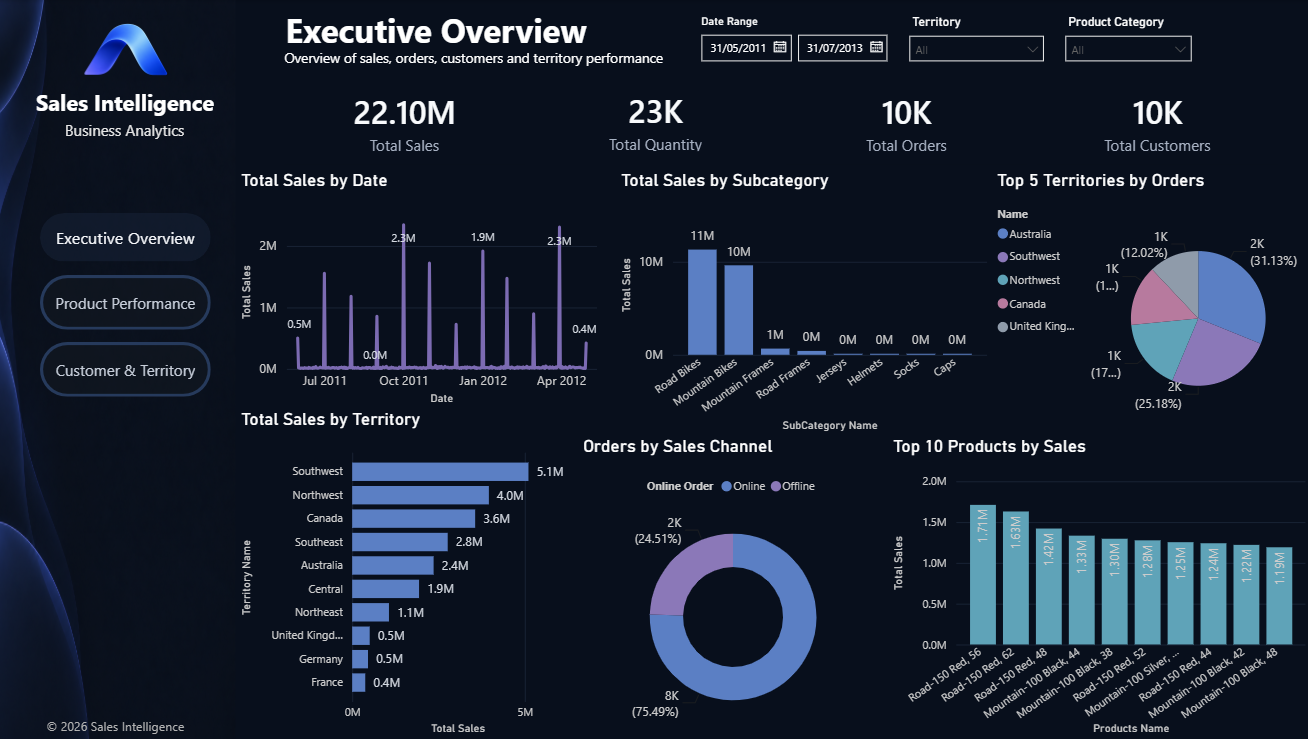

The page's visual inventory and layout, read from the dashboard file:
{"tool":"powerbi","page":{"name":"Executive Overview","canvas":[1280,720],"ordinal":0},"visuals":[{"type":"cardVisual","fields":{"Data":["SalesOrderDetails.Total Sales"]},"box":[276.2,72.9,244.1,92.4],"z":0},{"type":"cardVisual","fields":{"Data":["SalesOrders.Total Orders"]},"box":[764.5,72.9,244.1,92.4],"z":1000},{"type":"cardVisual","fields":{"Data":["SalesOrderDetails.Total Quantity"]},"box":[520.3,73.2,244.3,92],"z":2000},{"type":"cardVisual","fields":{"Data":["Customer.Total Customers"]},"box":[1008.6,72.9,244.1,92.4],"z":3000},{"type":"shape","box":[0,0,234.4,719.8],"z":4000},{"type":"textbox","box":[247.3,2,364,71.2],"z":5000},{"type":"columnChart","title":"Total Sales by Subcategory","fields":{"Category":["ProductSubCategory.Name"],"Y":["SalesOrderDetails.Total Sales"]},"box":[604,165.3,365.7,258.7],"z":6000},{"type":"lineChart","fields":{"Category":["DateTable.Date"],"Y":["SalesOrderDetails.Total Sales"]},"box":[234.4,165.3,369.6,232.5],"z":7000},{"type":"barChart","title":"Total Sales by Territory","fields":{"Category":["Territory.Name"],"Y":["SalesOrderDetails.Total Sales"]},"box":[234.4,397.7,332.4,321.5],"z":8000},{"type":"donutChart","title":"Orders by Sales Channel","fields":{"Category":["SalesOrders.Online Order"],"Y":["SalesOrders.Total Orders"]},"box":[566.8,424.4,301.7,294.8],"z":9000},{"type":"clusteredColumnChart","title":"Top 10 Products by Sales","fields":{"Category":["Product.Name"],"Y":["SalesOrderDetails.Total Sales"]},"box":[868.5,424.4,411.5,294.8],"z":10000},{"type":"pieChart","title":"Top 5 Territories by Orders","fields":{"Category":["Territory.Name"],"Y":["SalesOrders.Total Orders"]},"box":[969.7,165.3,310.3,258.7],"z":11000},{"type":"image","box":[0,0,234.4,719.1],"z":12000},{"type":"actionButton","box":[43.5,206.7,166.2,47.5],"z":13000},{"type":"actionButton","box":[43.5,267.1,166.2,53.4],"z":14000},{"type":"actionButton","box":[43.5,332.4,166.2,53.4],"z":15000},{"type":"image","box":[69.2,17.8,114.7,62.3],"z":16000},{"type":"textbox","box":[31.7,80.1,188.9,39.6],"z":17000},{"type":"textbox","box":[52.4,110.8,147.4,32.6],"z":18000},{"type":"slicer","fields":{"Values":["DateTable.Date"]},"box":[673.6,9.9,205.7,59.4],"z":19000},{"type":"slicer","fields":{"Values":["Territory.Name"]},"box":[879.4,9.9,151.3,64.3],"z":20000},{"type":"slicer","fields":{"Values":["ProductCategory.Name"]},"box":[1030.7,9.9,143.4,64.3],"z":21000},{"type":"textbox","box":[35.6,691.4,162.2,27.7],"z":22000},{"type":"textbox","box":[276.2,41.8,388.1,34],"z":22001}]}

Visuals, with their boxes in screenshot pixels (x1, y1, x2, y2), scaled from the page's 1280x720 canvas onto the 1308x739 screenshot:
cardVisual - SalesOrderDetails.Total Sales: region(282, 75, 532, 170)
cardVisual - SalesOrders.Total Orders: region(781, 75, 1031, 170)
cardVisual - SalesOrderDetails.Total Quantity: region(532, 75, 781, 170)
cardVisual - Customer.Total Customers: region(1031, 75, 1280, 170)
shape: region(0, 0, 240, 738)
textbox: region(253, 2, 625, 75)
"Total Sales by Subcategory" columnChart: region(617, 170, 991, 435)
lineChart - DateTable.Date x SalesOrderDetails.Total Sales: region(240, 170, 617, 408)
"Total Sales by Territory" barChart: region(240, 408, 579, 738)
"Orders by Sales Channel" donutChart: region(579, 436, 887, 738)
"Top 10 Products by Sales" clusteredColumnChart: region(887, 436, 1307, 738)
"Top 5 Territories by Orders" pieChart: region(991, 170, 1307, 435)
image: region(0, 0, 240, 738)
actionButton: region(44, 212, 214, 261)
actionButton: region(44, 274, 214, 329)
actionButton: region(44, 341, 214, 396)
image: region(71, 18, 188, 82)
textbox: region(32, 82, 225, 123)
textbox: region(54, 114, 204, 147)
slicer - DateTable.Date: region(688, 10, 899, 71)
slicer - Territory.Name: region(899, 10, 1053, 76)
slicer - ProductCategory.Name: region(1053, 10, 1200, 76)
textbox: region(36, 710, 202, 738)
textbox: region(282, 43, 679, 78)
